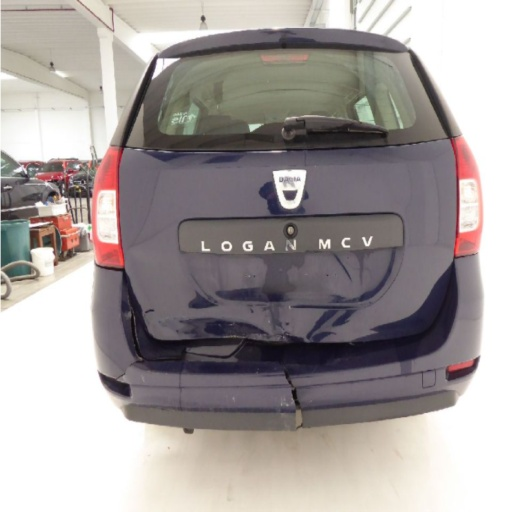dent: (158, 250, 385, 344)
scratch: (232, 396, 235, 403)
